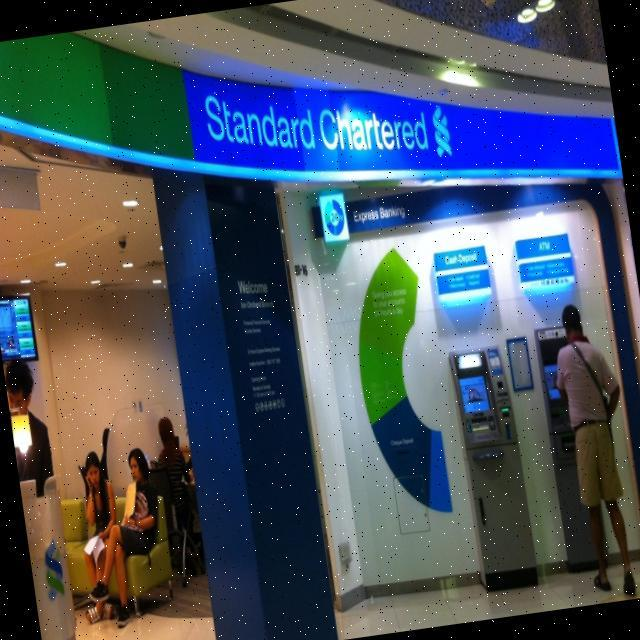Standard Chartered: (203, 61, 453, 190)
